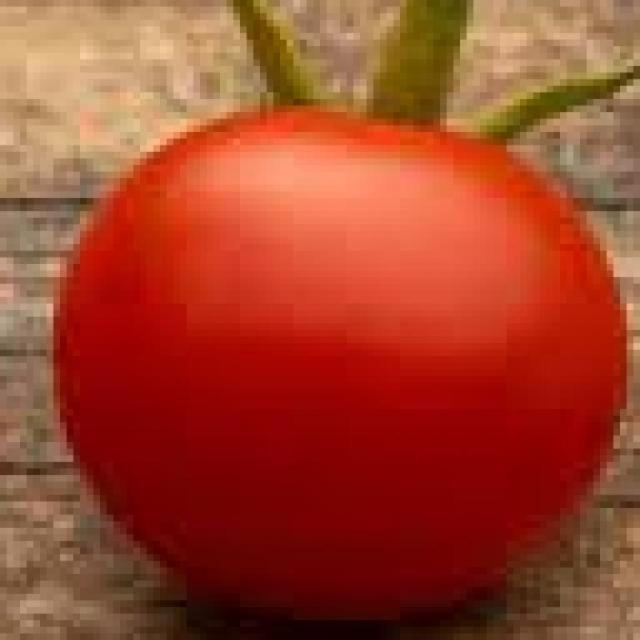Healthy Fruit: (28, 49, 427, 419)
